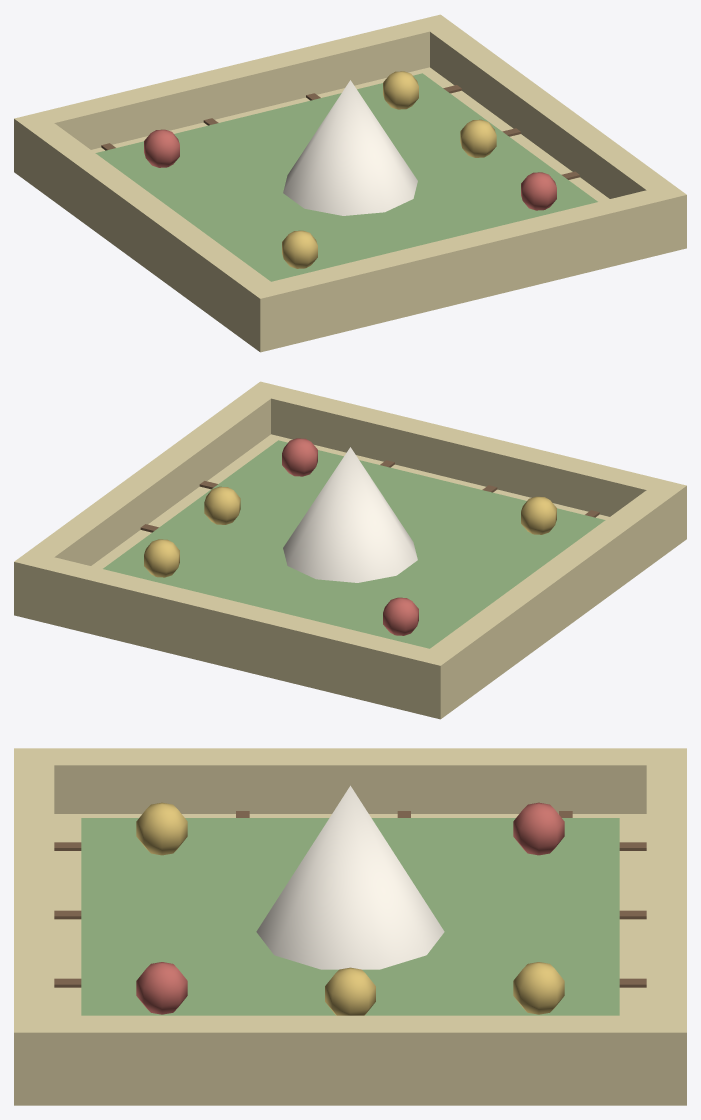
Rendered from Ancak_Tray.fbx.
The picture shows the model from 3 angles, top to bottom: view 1: azimuth 30°, elevation 25°; view 2: azimuth 150°, elevation 25°; view 3: azimuth 270°, elevation 25°; orthographic projection. The views are drawn at different scales.
Visible parts, largest first — view 1: Ancak_Tray; view 2: Ancak_Tray; view 3: Ancak_Tray.
Boxes of the visible parts, x1,y1,x2,y2 form: Ancak_Tray: (14, 14, 686, 352); Ancak_Tray: (14, 381, 686, 719); Ancak_Tray: (14, 748, 686, 1105).
Size of the model in its own units: 0.5 by 0.146 by 0.5.
